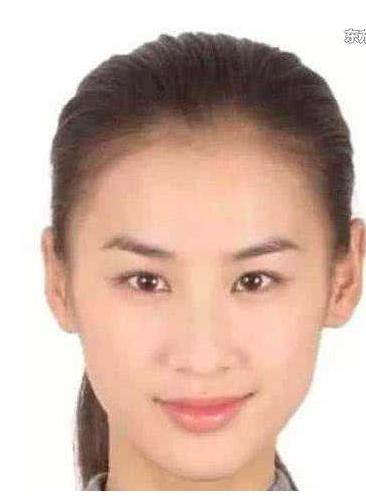unmask: (83, 156, 324, 476)
